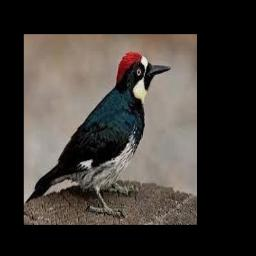Woodpecker: (26, 51, 171, 215)
